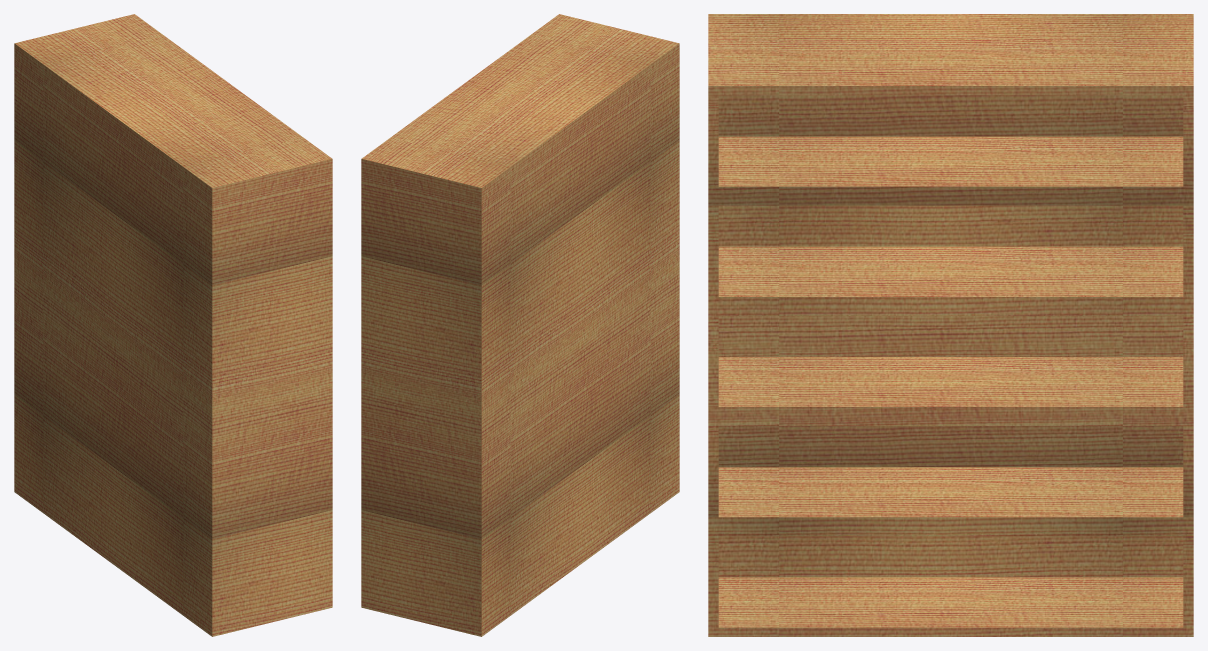
File: SHELF_02.fbx
The picture shows the model from 3 angles, left to right: view 1: azimuth 30°, elevation 25°; view 2: azimuth 150°, elevation 25°; view 3: azimuth 270°, elevation 25°; orthographic projection. The views are drawn at different scales.
Parts seen in each view (by area): view 1: SHELF_02; view 2: SHELF_02; view 3: SHELF_02.
Boxes of the visible parts, <box> form: SHELF_02: <box>14,14,332,636</box>; SHELF_02: <box>361,14,679,636</box>; SHELF_02: <box>708,14,1193,636</box>.
Bounding box in the file's own units: 49.69 × 177 × 142.
